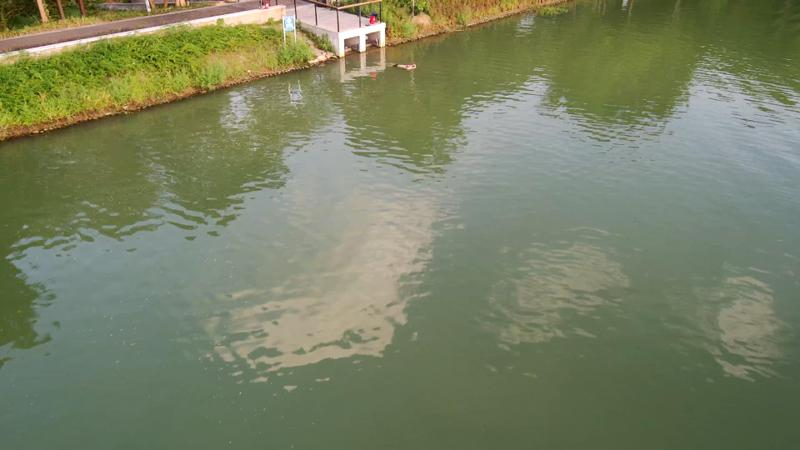swimmers: (387, 61, 417, 72)
